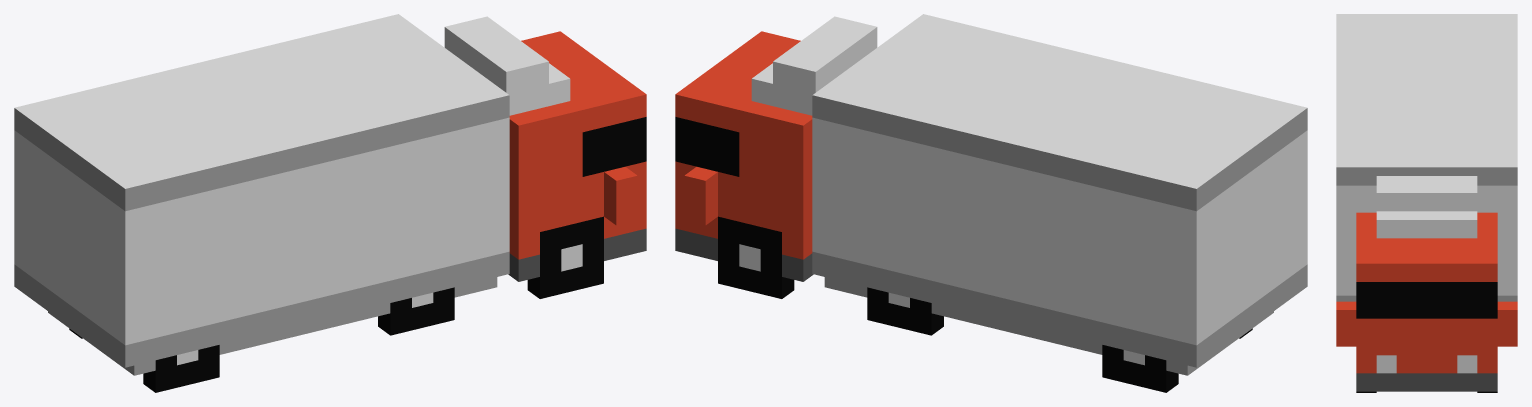
Rendered from Truck_Main.fbx.
3 renders of one model, left to right at view 1: azimuth 30°, elevation 25°; view 2: azimuth 150°, elevation 25°; view 3: azimuth 270°, elevation 25°, orthographic. The views are drawn at different scales.
Parts seen in each view (by area): view 1: Truck_Load, Truck_Body, Truck_Top, Truck_Tire_02, Truck_Tire_03, Truck_Tire_05, Truck_Mirrors; view 2: Truck_Load, Truck_Body, Truck_Top, Truck_Tire_01, Truck_Tire_04, Truck_Tire_06, Truck_Mirrors; view 3: Truck_Load, Truck_Body, Truck_Top, Truck_Mirrors.
Part boxes in pixels (x1,y1,x2,y2): Truck_Load: (14, 14, 509, 367); Truck_Body: (48, 31, 646, 375); Truck_Top: (444, 16, 570, 115); Truck_Tire_02: (527, 216, 603, 298); Truck_Tire_03: (378, 287, 454, 335); Truck_Tire_05: (143, 345, 219, 392); Truck_Mirrors: (604, 166, 637, 225); Truck_Load: (812, 14, 1307, 367); Truck_Body: (675, 31, 1273, 375); Truck_Top: (751, 16, 877, 115); Truck_Tire_01: (718, 216, 794, 298); Truck_Tire_04: (867, 287, 943, 335); Truck_Tire_06: (1102, 345, 1178, 392); Truck_Mirrors: (684, 166, 717, 225); Truck_Load: (1336, 14, 1517, 301); Truck_Body: (1356, 212, 1497, 391); Truck_Top: (1376, 176, 1477, 238); Truck_Mirrors: (1336, 301, 1517, 346).
Size of the model in its own units: 25 by 10 by 9.
